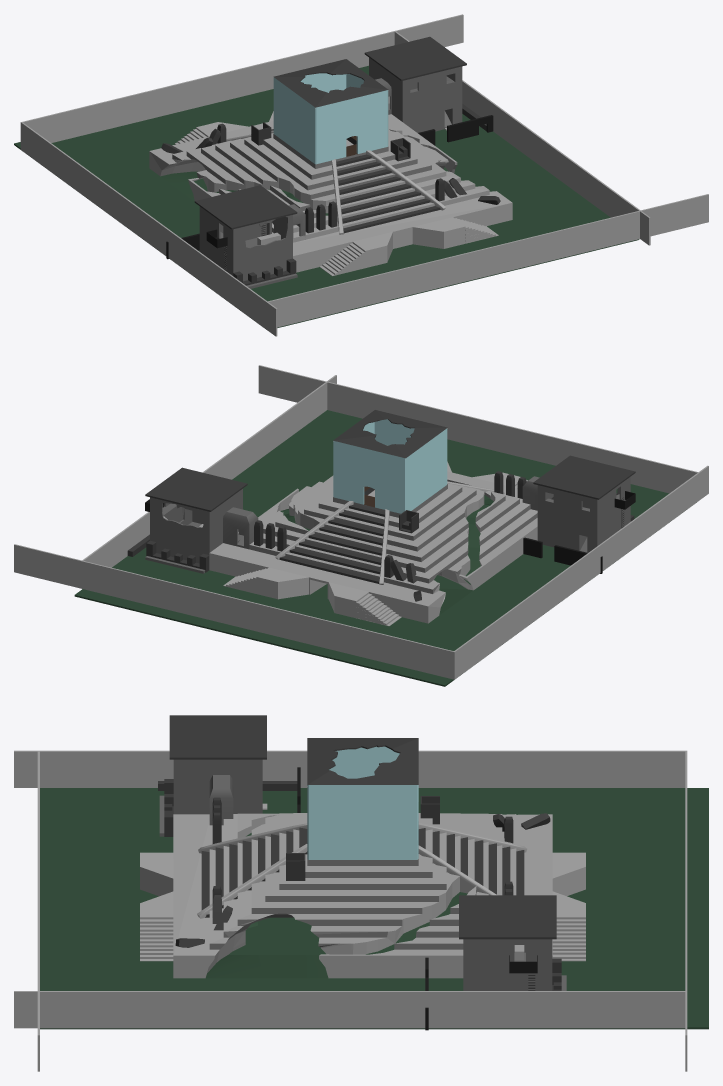
The model's file is maya.fbx.
3 renders of one model, top to bottom at view 1: azimuth 30°, elevation 25°; view 2: azimuth 150°, elevation 25°; view 3: azimuth 270°, elevation 25°, orthographic. The views are drawn at different scales.
Visible parts, largest first — view 1: MapWalls, Pyramid_pCube20, GroundOuter, TowerSouth_TowerSouth (×2), TopSouth (×2), PyramidDetailsSouth1_StairsSouth_Stairs_pCube31, PyramidDetailsSouth1_StairsSouth_pCube45, TowerFenceSouth, TowerSouth1_TowerDeets_SideShelfSouth5, GroundInner2SouthSideRamp, pillar13, pyramidStair4 (+2 smaller); view 2: MapWalls, Pyramid_pCube20, GroundOuter, TowerSouth_TowerSouth (×2), TopSouth (×2), PyramidDetailsSouth_StairsSouth_pCube45, PyramidDetailsSouth_StairsSouth_pCube44, SideRoom, TowerSouth_TowerDeets_SideShelfSouth5, TowerFenceSouth, pyramidStair4, pyramidStair5; view 3: GroundOuter, Pyramid_pCube20, MapWalls, TopSouth (×2), TowerSouth_TowerSouth (×2), GroundInner2SouthSideRamp, GroundInner, PyramidDetailsSouth1_StairsSouth_Stairs_pCube31, PyramidDetailsSouth_StairsSouth_pCube45, PyramidDetailsSouth1_StairsSouth_pCube45, PyramidDetailsSouth_StairsSouth_pCube44, pyramidStair4 (+11 smaller).
Part boxes in pixels (x1=…): MapWalls: x1=20, y1=14, x2=708, y2=336; Pyramid_pCube20: x1=149, y1=59, x2=512, y2=272; GroundOuter: x1=14, y1=65, x2=639, y2=327; TowerSouth_TowerSouth (×2): x1=199, y1=57, x2=462, y2=281; TopSouth (×2): x1=194, y1=36, x2=466, y2=229; PyramidDetailsSouth1_StairsSouth_Stairs_pCube31: x1=412, y1=217, x2=498, y2=248; PyramidDetailsSouth1_StairsSouth_pCube45: x1=320, y1=232, x2=392, y2=276; TowerFenceSouth: x1=418, y1=115, x2=493, y2=145; TowerSouth1_TowerDeets_SideShelfSouth5: x1=233, y1=258, x2=297, y2=288; GroundInner2SouthSideRamp: x1=160, y1=171, x2=207, y2=200; pillar13: x1=366, y1=150, x2=445, y2=210; pyramidStair4: x1=271, y1=129, x2=440, y2=233; MapWalls: x1=14, y1=365, x2=708, y2=679; Pyramid_pCube20: x1=209, y1=410, x2=537, y2=623; GroundOuter: x1=74, y1=410, x2=696, y2=686; TowerSouth_TowerSouth (×2): x1=150, y1=477, x2=630, y2=563; TopSouth (×2): x1=145, y1=455, x2=635, y2=511; PyramidDetailsSouth_StairsSouth_pCube45: x1=223, y1=567, x2=308, y2=599; PyramidDetailsSouth_StairsSouth_pCube44: x1=328, y1=582, x2=401, y2=626; SideRoom: x1=223, y1=507, x2=258, y2=549; TowerSouth_TowerDeets_SideShelfSouth5: x1=145, y1=540, x2=209, y2=573; TowerFenceSouth: x1=523, y1=537, x2=602, y2=573; pyramidStair4: x1=279, y1=479, x2=469, y2=583; pyramidStair5: x1=289, y1=480, x2=462, y2=574; GroundOuter: x1=40, y1=788, x2=708, y2=1029; Pyramid_pCube20: x1=173, y1=738, x2=552, y2=978; MapWalls: x1=14, y1=750, x2=687, y2=1071; TopSouth (×2): x1=169, y1=715, x2=556, y2=939; TowerSouth_TowerSouth (×2): x1=173, y1=759, x2=552, y2=990; GroundInner2SouthSideRamp: x1=206, y1=955, x2=328, y2=978; GroundInner: x1=228, y1=917, x2=325, y2=954; PyramidDetailsSouth1_StairsSouth_Stairs_pCube31: x1=140, y1=891, x2=173, y2=961; PyramidDetailsSouth_StairsSouth_pCube45: x1=552, y1=891, x2=585, y2=961; PyramidDetailsSouth1_StairsSouth_pCube45: x1=140, y1=852, x2=173, y2=896; PyramidDetailsSouth_StairsSouth_pCube44: x1=552, y1=852, x2=585, y2=896; pyramidStair4: x1=201, y1=850, x2=524, y2=917.
Bounding box in the file's own units: 303 × 78.92 × 312.
